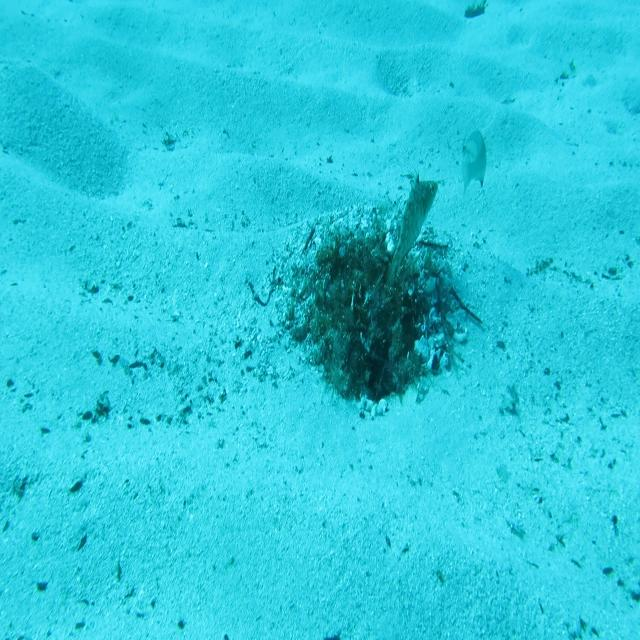MAF: (381, 168, 439, 294)
core_nest: (341, 252, 381, 280)
female: (458, 125, 490, 198)
nest: (261, 177, 476, 423)
vegetation: (462, 2, 487, 22)
